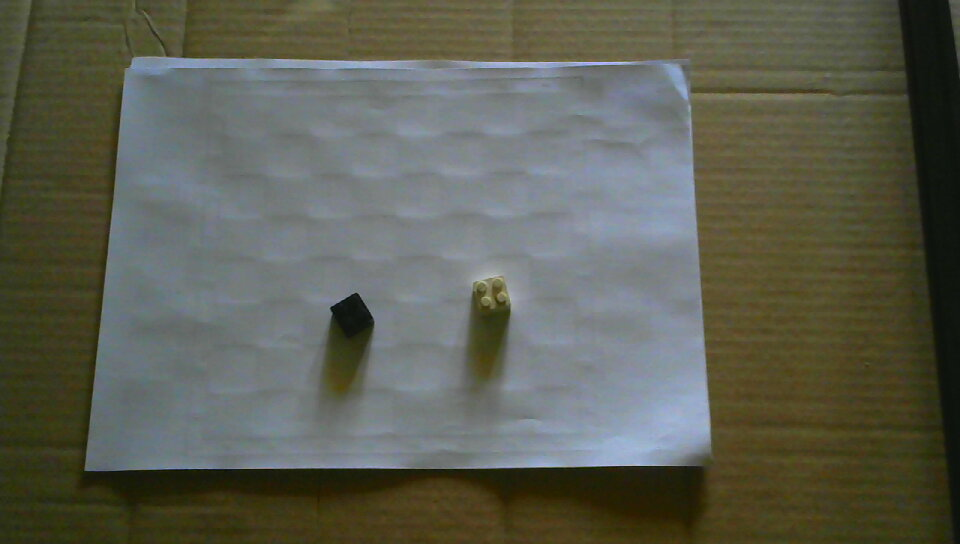bp: (329, 291, 375, 340)
wp: (472, 275, 511, 317)
